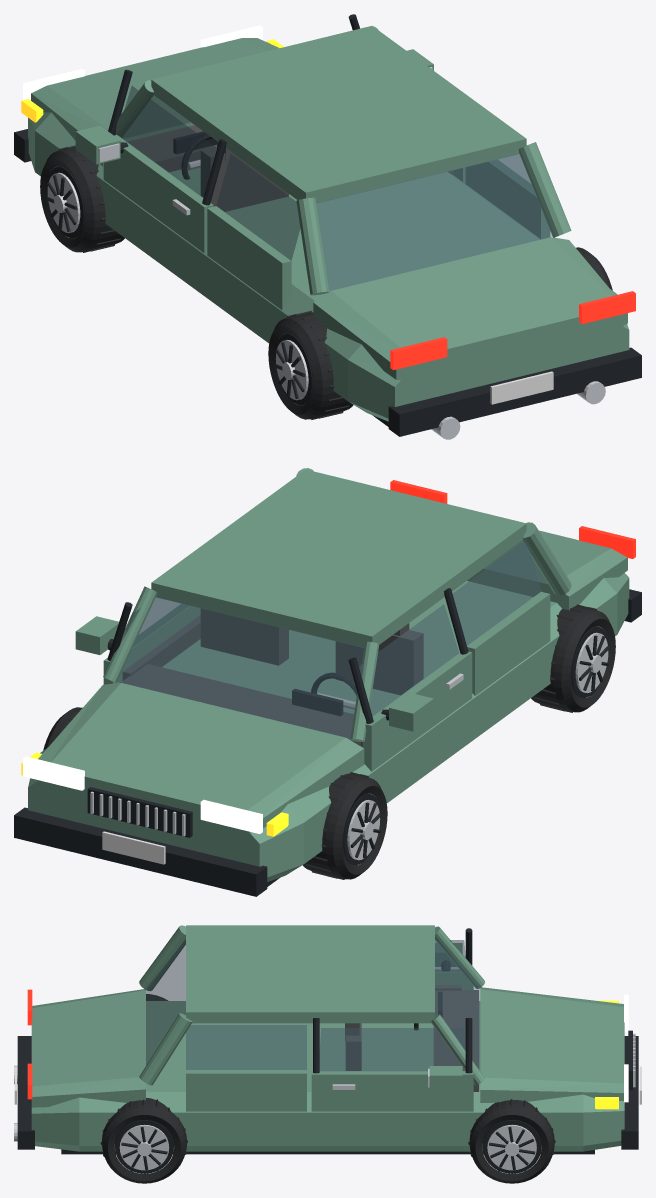
File: coupe.glb
3 renders of one model, top to bottom at view 1: azimuth 30°, elevation 25°; view 2: azimuth 150°, elevation 25°; view 3: azimuth 270°, elevation 25°, orthographic. The views are drawn at different scales.
Visible parts, largest first — view 1: Body, Door_FL, Wheel_RL, Wheel_FL; view 2: Body, Door_FL, Wheel_RL, Wheel_FL, Door_FR; view 3: Body, Door_FR, Wheel_RR, Wheel_FR, Door_FL.
Part boxes in pixels (x1=…): Body: x1=14, y1=25, x2=641, y2=439; Door_FL: x1=75, y1=69, x2=226, y2=252; Wheel_RL: x1=268, y1=310, x2=353, y2=419; Wheel_FL: x1=40, y1=145, x2=124, y2=252; Body: x1=14, y1=468, x2=641, y2=896; Door_FL: x1=348, y1=588, x2=472, y2=771; Wheel_RL: x1=531, y1=604, x2=615, y2=712; Wheel_FL: x1=302, y1=772, x2=387, y2=879; Door_FR: x1=75, y1=598, x2=200, y2=684; Body: x1=14, y1=925, x2=641, y2=1154; Door_FR: x1=311, y1=1018, x2=473, y2=1111; Wheel_RR: x1=100, y1=1098, x2=187, y2=1183; Wheel_FR: x1=468, y1=1099, x2=555, y2=1183; Door_FL: x1=435, y1=928, x2=473, y2=990.
Size of what is drawn, in the model's own units: 2.35 by 1.32 by 4.71.
